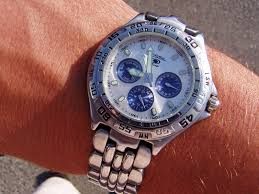clock: (102, 32, 200, 130)
